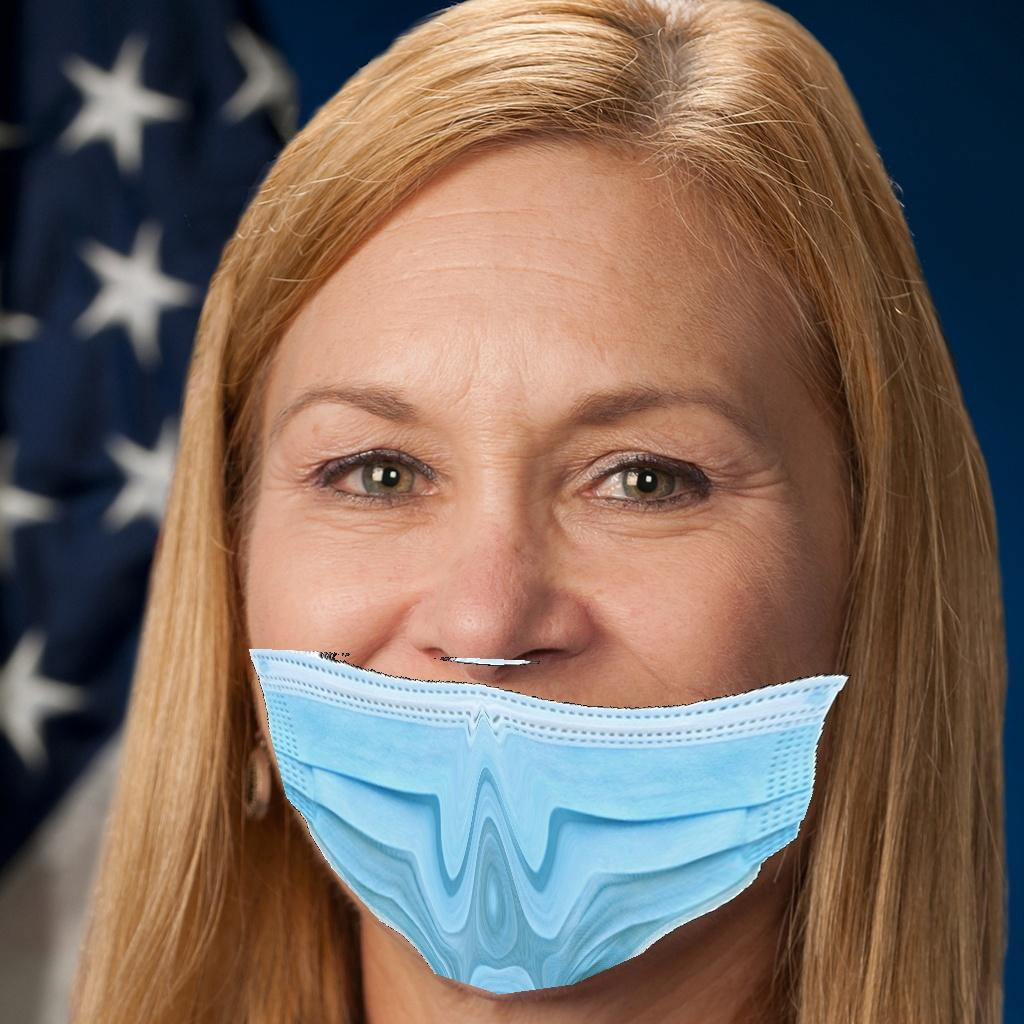Máscara Incorreta: (260, 338, 830, 942)
